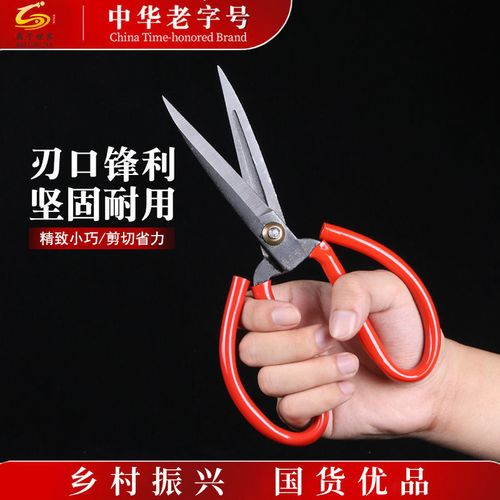scissor: (161, 62, 441, 447)
